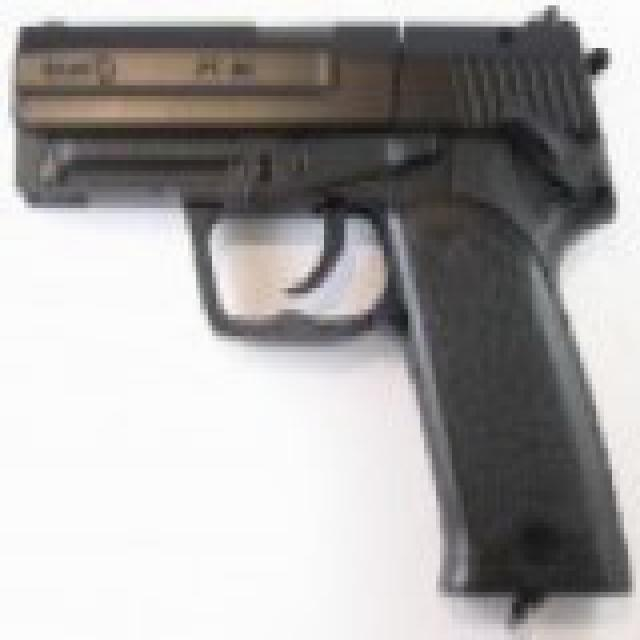handgun: (12, 10, 628, 592)
